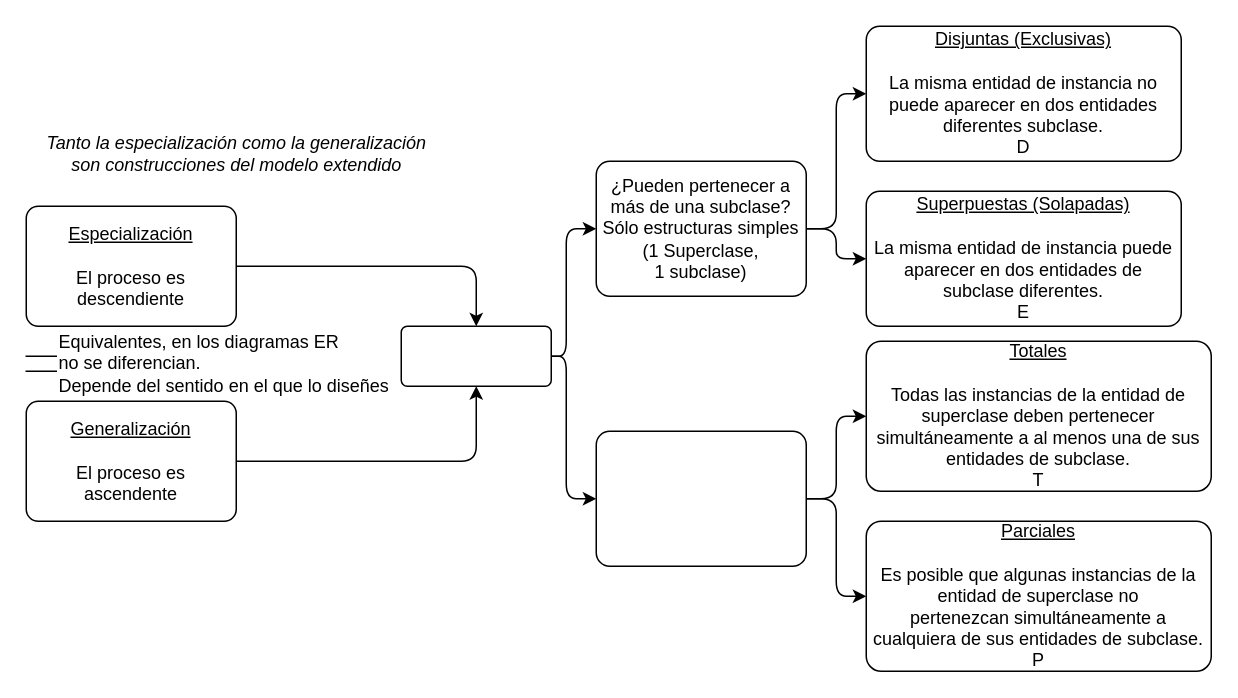
This 1238x698 diagram has some shape labels left out. Each missing label, with the centre of its shape:
"Restricciones" goes at point (475, 355).
"¿La superclase debe pertenecer a una o más de las subclases?" goes at point (700, 498).
